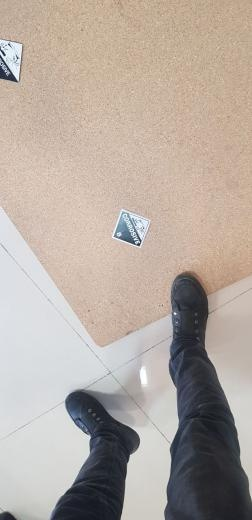Corrosive: (112, 209, 151, 249), (1, 39, 23, 83)
